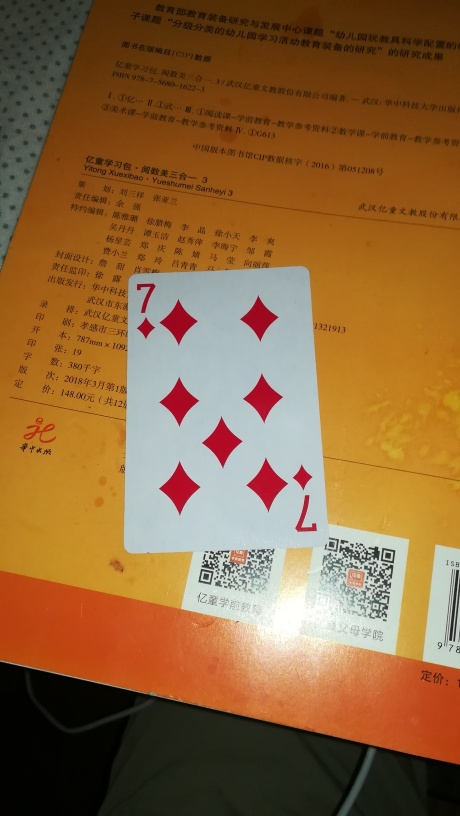fk 7: (124, 266, 329, 554)
